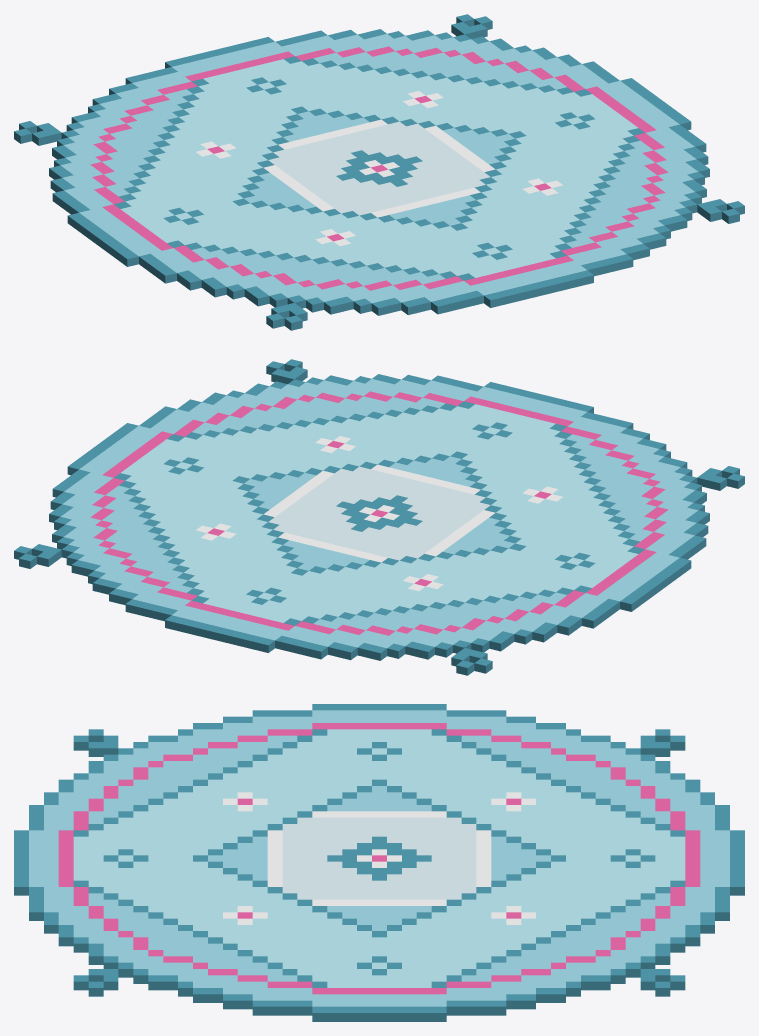
File: PixelRug_Baby-Blue_First-Edition_2021.glb
3 renders of one model, top to bottom at view 1: azimuth 30°, elevation 25°; view 2: azimuth 150°, elevation 25°; view 3: azimuth 270°, elevation 25°, orthographic. The views are drawn at different scales.
Visible parts, largest first — view 1: Curve.216; view 2: Curve.216; view 3: Curve.216.
Part boxes in pixels (x1,y1,x2,y2): Curve.216: (14, 14, 744, 330); Curve.216: (14, 359, 744, 675); Curve.216: (14, 704, 744, 1021).
Size of the model in its own units: 0.9328 by 0.0123 by 0.9326.
